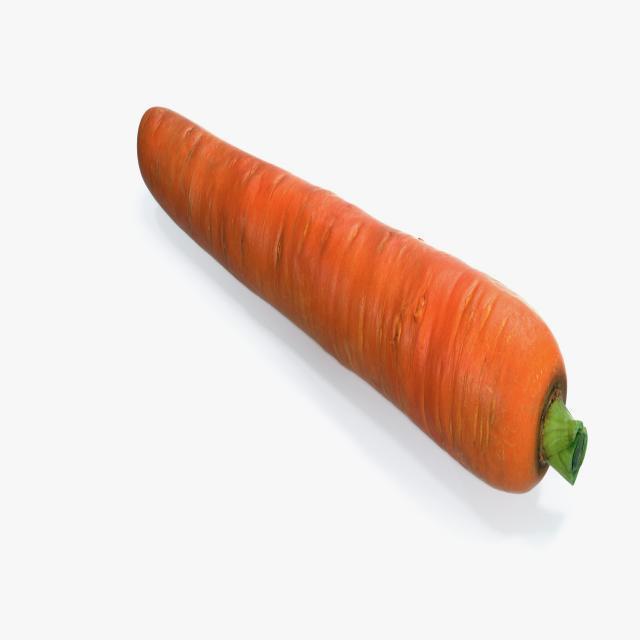carrot: (135, 105, 591, 512)
